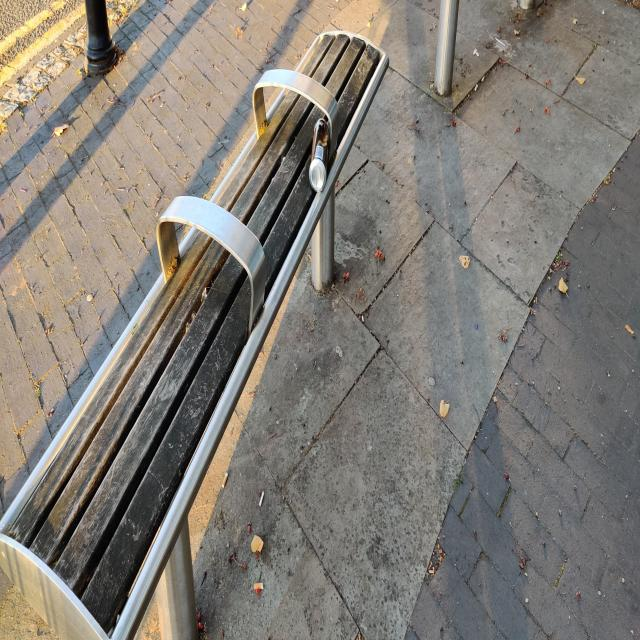litter: (308, 114, 333, 191), (220, 468, 231, 494), (258, 492, 267, 511), (253, 580, 265, 593)
